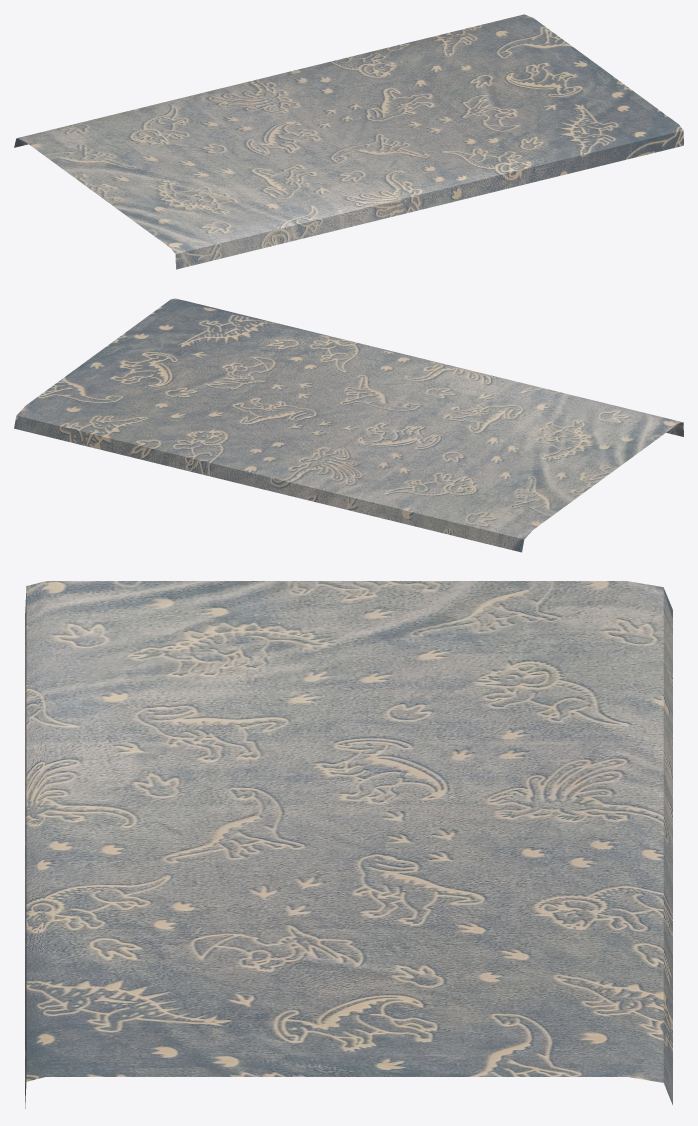
File: BedsheetDay.fbx
3 renders of one model, top to bottom at view 1: azimuth 30°, elevation 25°; view 2: azimuth 150°, elevation 25°; view 3: azimuth 270°, elevation 25°, orthographic. The views are drawn at different scales.
Parts seen in each view (by area): view 1: pPlane2; view 2: pPlane2; view 3: pPlane2.
Part boxes in pixels (x1=…): pPlane2: x1=14, y1=14, x2=683, y2=269; pPlane2: x1=14, y1=298, x2=683, y2=552; pPlane2: x1=25, y1=581, x2=672, y2=1108.
Size of the model in its own units: 5.37 by 0.1776 by 2.97.
1 material, 1 textured.
